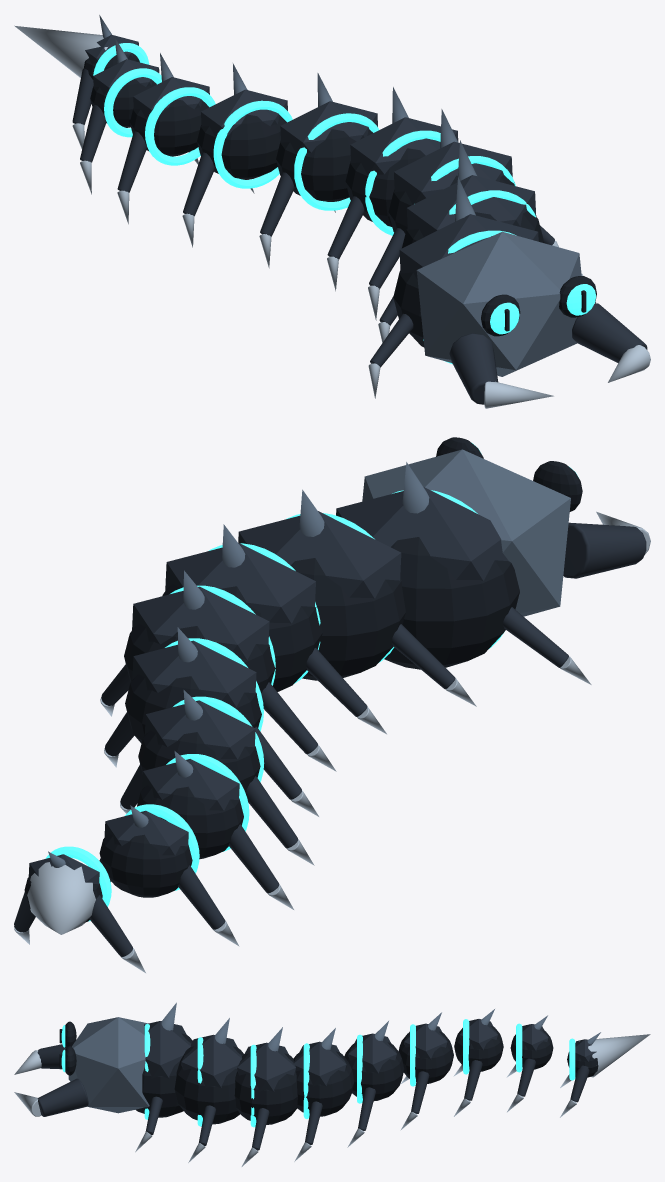
Rendered from Worm_Burrower.fbx.
The picture shows the model from 3 angles, top to bottom: view 1: azimuth 30°, elevation 25°; view 2: azimuth 150°, elevation 25°; view 3: azimuth 270°, elevation 25°; orthographic projection. The views are drawn at different scales.
Visible parts, largest first — view 1: Worm head, Segment_01_carapace, Segment_05_core, Segment_04_core, Segment_02_carapace, Segment_00_carapace, Segment_03_carapace, Segment_06_core, Mandible 1 base, Segment_04_carapace, Mandible -1 base, Segment_03_core (+31 smaller); view 2: Worm head, Segment_00_core, Segment_00_carapace, Segment_01_core, Segment_01_carapace, Segment_02_carapace, Segment_03_carapace, Segment_04_carapace, Segment_07_core, Mandible -1 base, Tail stinger, Segment_05_carapace (+23 smaller); view 3: Worm head, Segment_01_core, Segment_02_core, Segment_01_carapace, Segment_03_core, Segment_00_carapace, Segment_02_carapace, Segment_04_core, Segment_00_core, Segment_03_carapace, Segment_05_core, Mandible 1 base (+32 smaller).
Part boxes in pixels (x1,y1,x2,y2): Worm head: (416, 231, 581, 376); Segment_01_carapace: (406, 175, 536, 237); Segment_05_core: (197, 114, 286, 179); Segment_04_core: (276, 129, 372, 201); Segment_02_carapace: (394, 141, 512, 204); Segment_00_carapace: (399, 214, 538, 279); Segment_03_carapace: (350, 117, 458, 196); Segment_06_core: (130, 99, 209, 156); Mandible 1 base: (572, 303, 647, 362); Segment_04_carapace: (280, 101, 377, 153); Mandible -1 base: (449, 333, 498, 404); Segment_03_core: (345, 148, 425, 226); Worm head: (362, 449, 570, 616); Segment_00_core: (384, 537, 519, 669); Segment_00_carapace: (336, 487, 508, 581); Segment_01_core: (290, 558, 405, 680); Segment_01_carapace: (238, 511, 401, 598); Segment_02_carapace: (165, 543, 315, 654); Segment_03_carapace: (132, 586, 269, 688); Segment_04_carapace: (132, 640, 256, 706); Segment_07_core: (99, 833, 192, 897); Mandible -1 base: (563, 522, 646, 578); Tail stinger: (27, 862, 95, 934); Segment_05_carapace: (144, 700, 255, 759); Worm head: (68, 1017, 149, 1113); Segment_01_core: (174, 1046, 244, 1124); Segment_02_core: (234, 1053, 297, 1124); Segment_01_carapace: (181, 1034, 241, 1088); Segment_03_core: (293, 1051, 354, 1116); Segment_00_carapace: (144, 1021, 190, 1078); Segment_02_carapace: (237, 1042, 295, 1091); Segment_04_core: (344, 1042, 404, 1100); Segment_00_core: (135, 1033, 192, 1117); Segment_03_carapace: (293, 1041, 346, 1086); Segment_05_core: (398, 1031, 453, 1083); Mandible 1 base: (37, 1078, 88, 1116).
Size of the model in its own units: 118 by 68.55 by 348.
